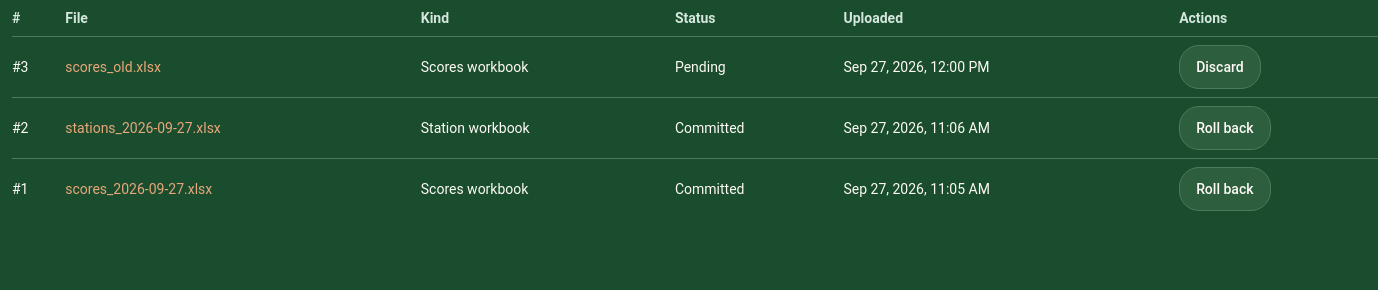
it: ImportHistory › drops the roll back button as soon as the roll back is accepted, while the job still runs
Click the button "Roll back" in the row of "#2" at (1225, 128), box [1179, 106, 1271, 150]
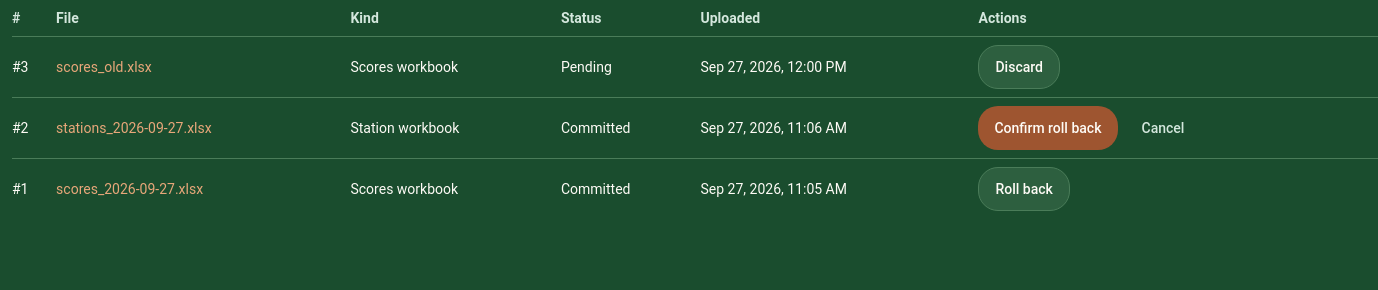
Click the button "Confirm roll back" at (1048, 128), box [978, 106, 1118, 150]
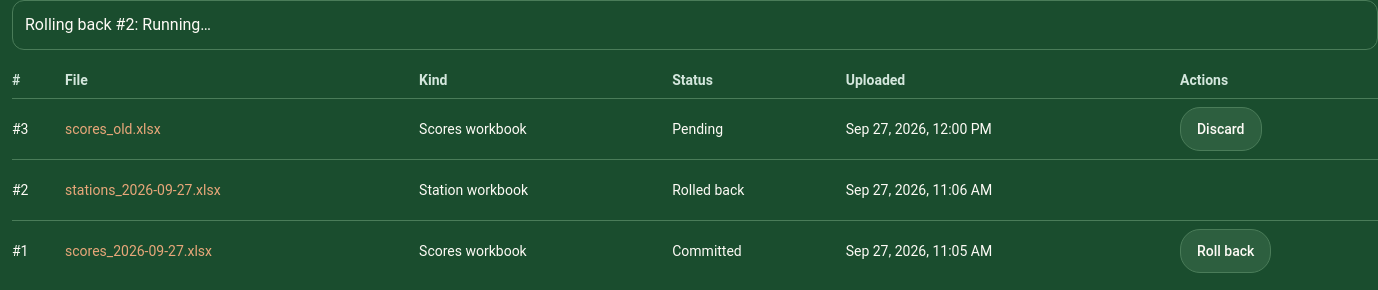
Now the text "Rolling back #2: Running…" is shown, box [12, 0, 1377, 50]
